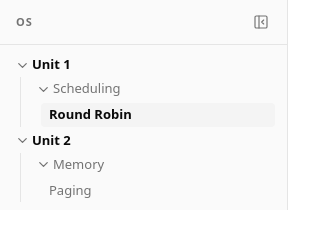
it: TreePanel › a unit can be folded away and opened again
Click the button named "Collapse Unit 2": (22, 140) [12,128,32,152]
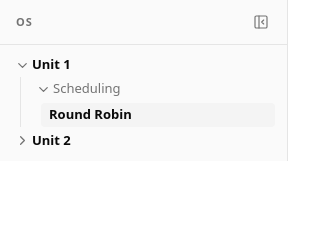
Expected: the link "Scheduling" is shown, [53,79,120,97]
Result: the link "Memory" is gone
Click the button named "Expand Unit 2": (22, 140) [12,128,32,152]
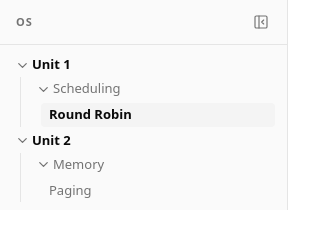
Result: the link "Memory" is shown at [53,155,104,173]
